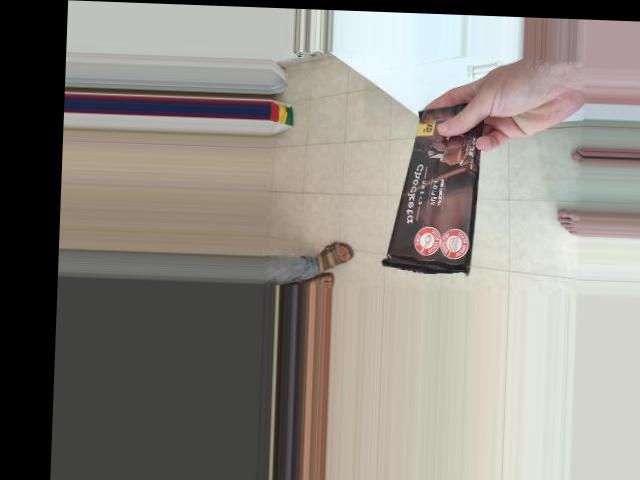chocolate: (378, 103, 498, 279)
